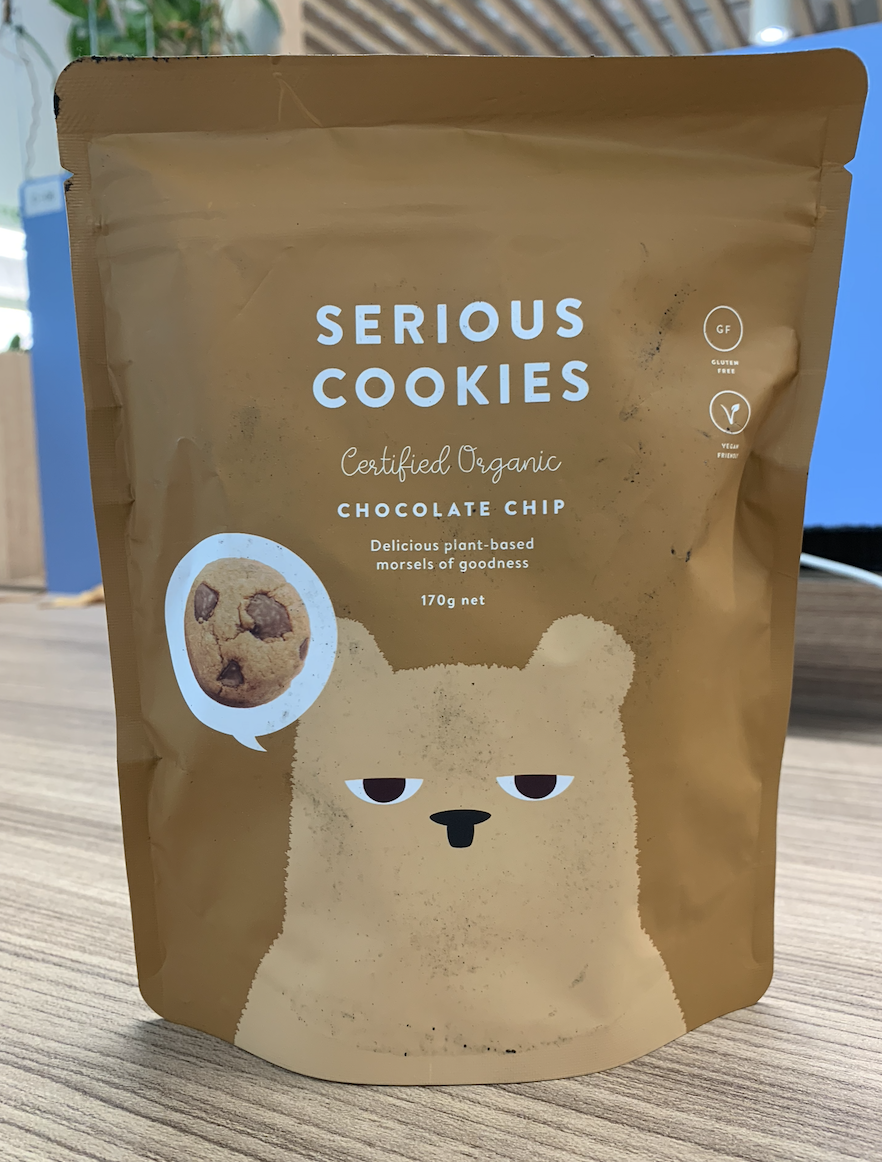cookies_150g: (154, 171, 782, 993)
